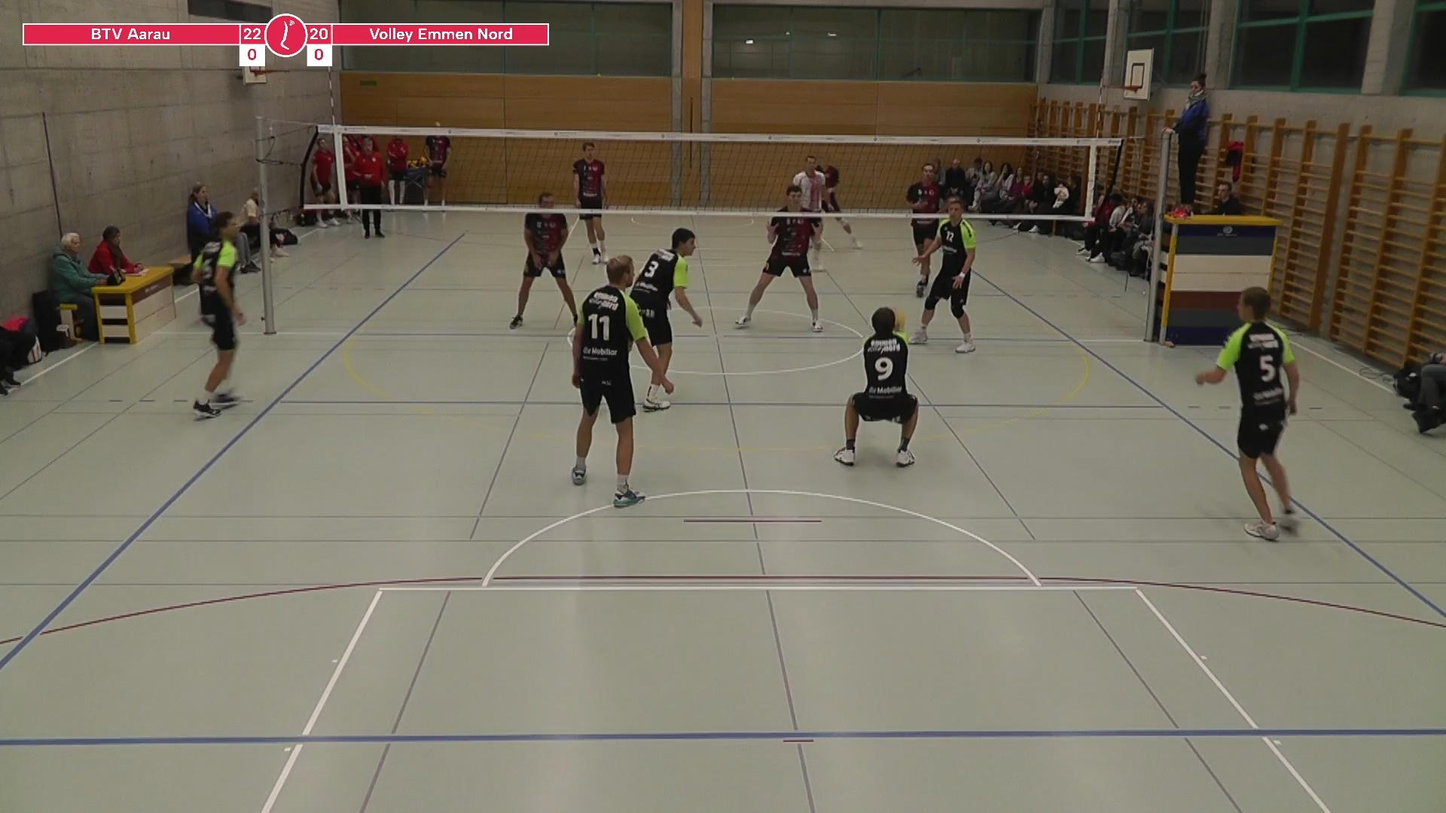ricezione: (830, 297, 928, 475)
